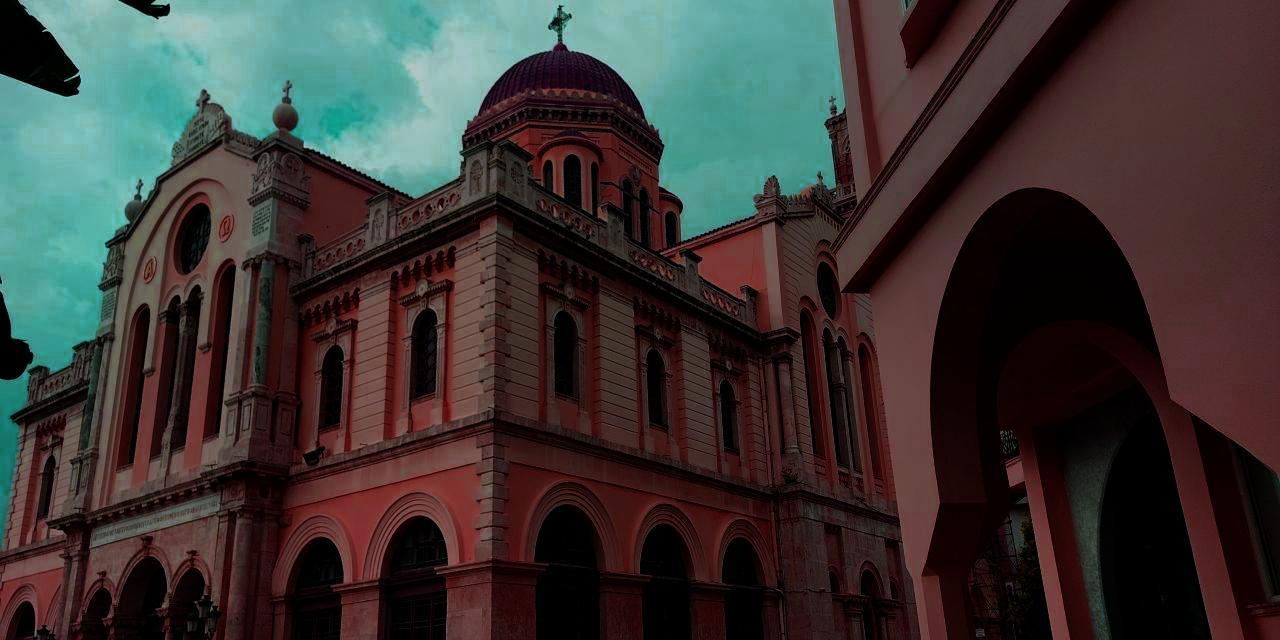Agios Minas: (1, 1, 918, 640)
